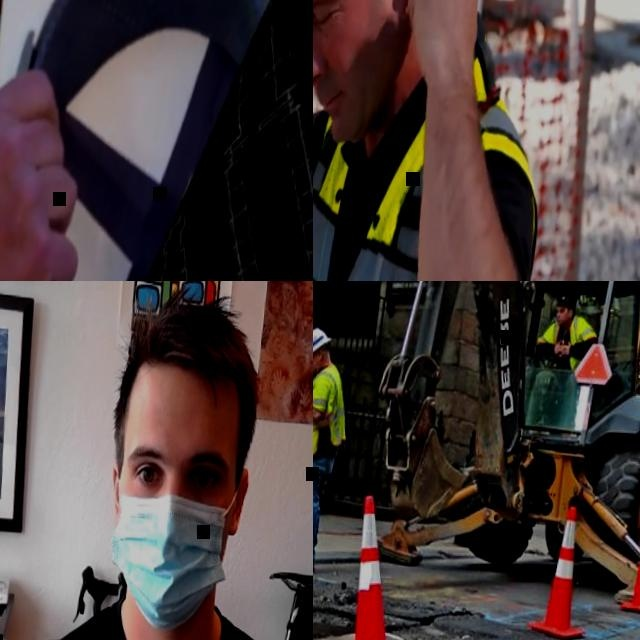Hardhat: (0, 0, 297, 281), (313, 327, 331, 357)
Mask: (106, 464, 250, 638)
NO-Hardhat: (123, 290, 264, 389), (556, 293, 576, 308)
NO-Mask: (313, 0, 419, 150), (556, 313, 570, 327), (313, 355, 323, 372)
Person: (0, 281, 313, 640), (313, 0, 565, 281), (0, 0, 124, 281), (313, 325, 352, 578), (535, 293, 600, 370)
Safety Cone: (334, 495, 414, 640), (527, 508, 590, 640), (619, 510, 640, 616)
Safety Vest: (313, 31, 548, 281), (313, 362, 349, 458), (544, 316, 588, 371)
machinery: (362, 281, 640, 614)
